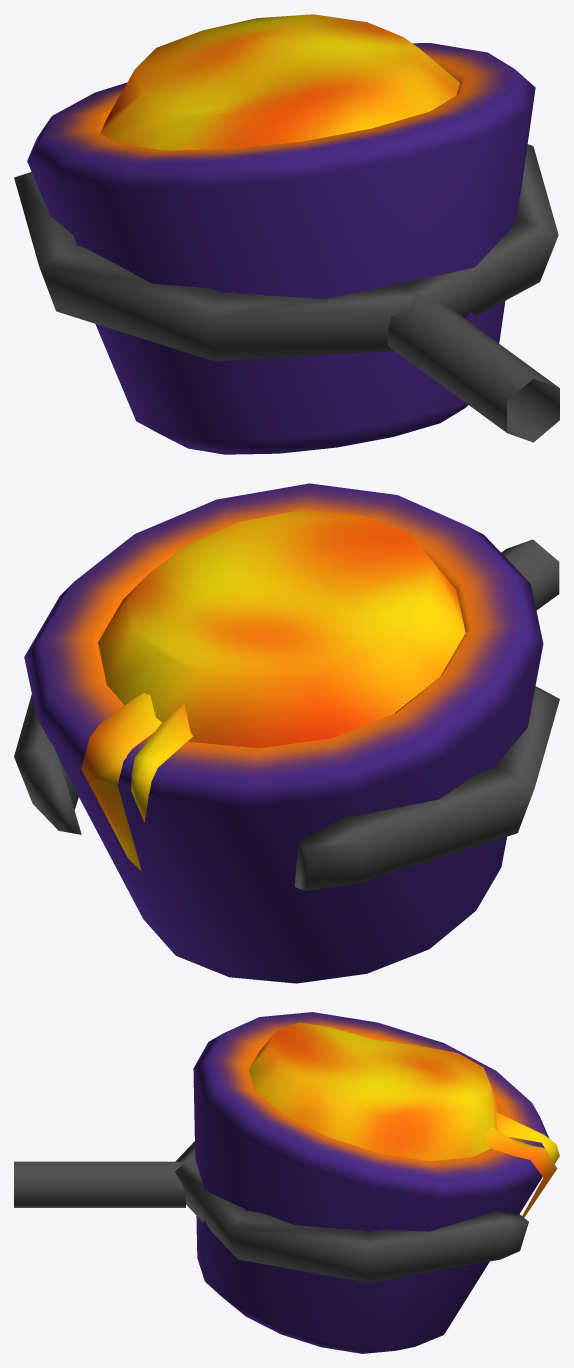
File: O_Boiler_01.fbx
3 views of the same model, one above another, from view 1: azimuth 30°, elevation 25°; view 2: azimuth 150°, elevation 25°; view 3: azimuth 270°, elevation 25° (orthographic). The views are drawn at different scales.
Parts seen in each view (by area): view 1: O_Boiler_01; view 2: O_Boiler_01; view 3: O_Boiler_01.
Part boxes in pixels (bbox=[...]): O_Boiler_01: bbox=[14, 14, 559, 454]; O_Boiler_01: bbox=[14, 483, 559, 983]; O_Boiler_01: bbox=[14, 1012, 559, 1353].
Bounding box in the file's own units: 1.38 × 1.01 × 1.82.
